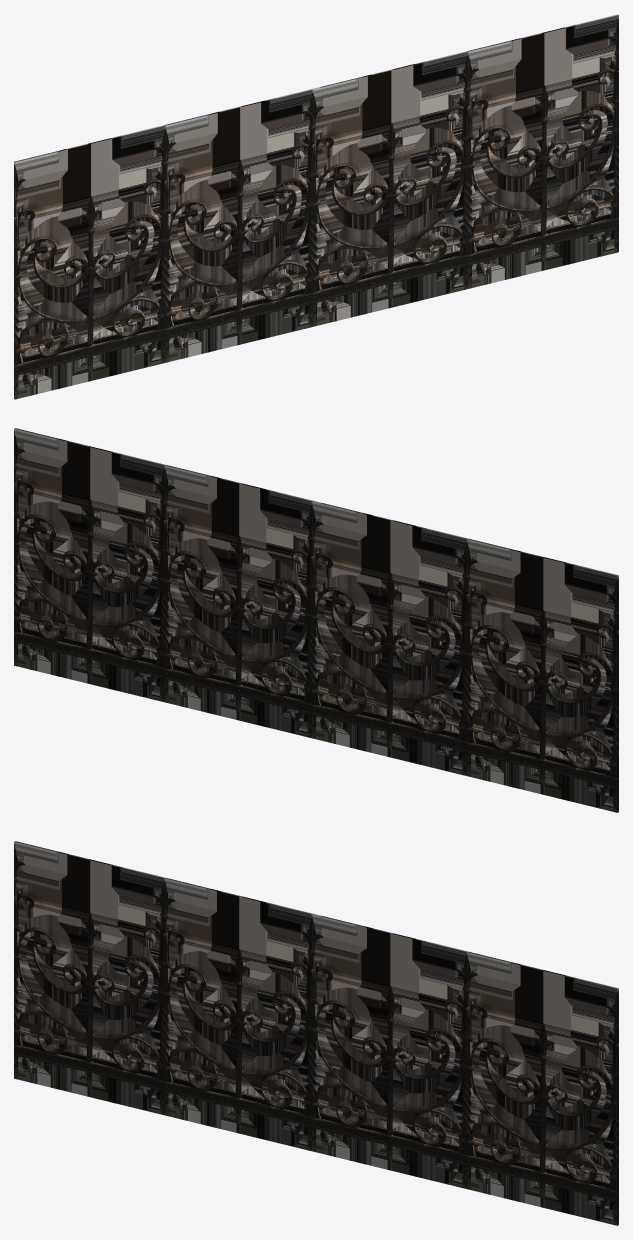
File: RoofFence2A.fbx
3 views of the same model, one above another, from view 1: azimuth 30°, elevation 25°; view 2: azimuth 150°, elevation 25°; view 3: azimuth 330°, elevation 25° (orthographic).
Parts seen in each view (by area): view 1: RoofFence2A; view 2: RoofFence2A; view 3: RoofFence2A.
Boxes of the visible parts, box(x1,y1,x2,y2) form: RoofFence2A: box(14, 14, 618, 399); RoofFence2A: box(14, 428, 618, 812); RoofFence2A: box(14, 841, 618, 1225).
Size of the model in its own units: 400 by 150 by 1.
